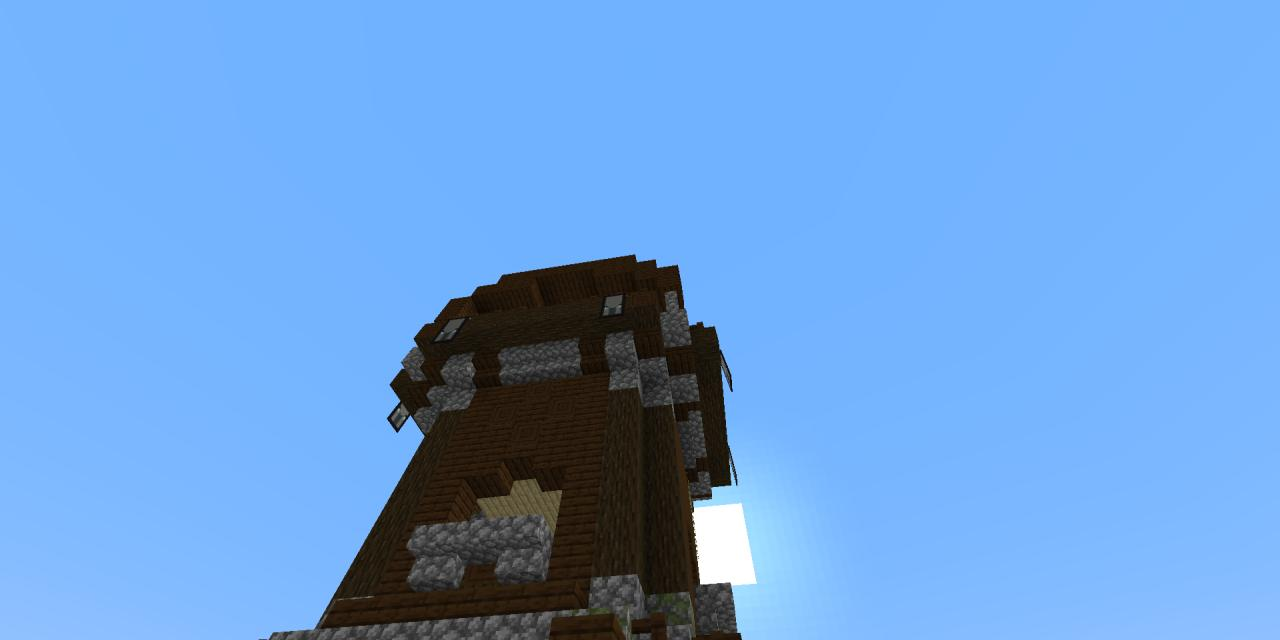pillager outpost: (258, 241, 754, 640)
